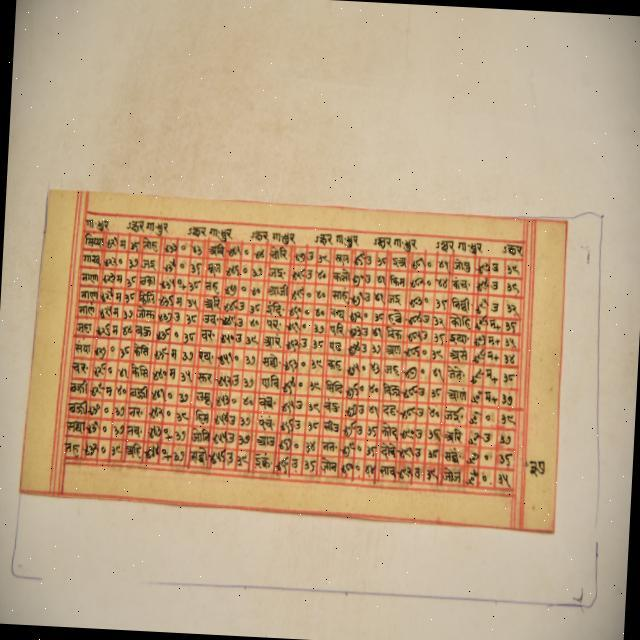text_paragraph: (16, 187, 564, 535)
